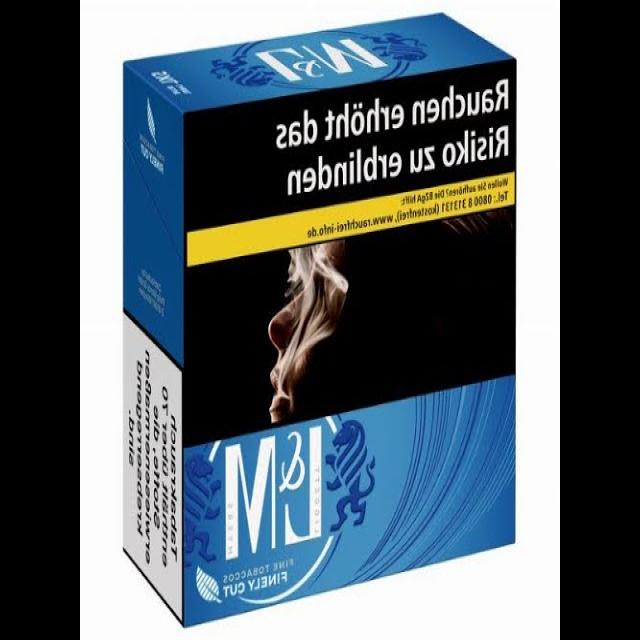lm: (113, 11, 521, 628)
